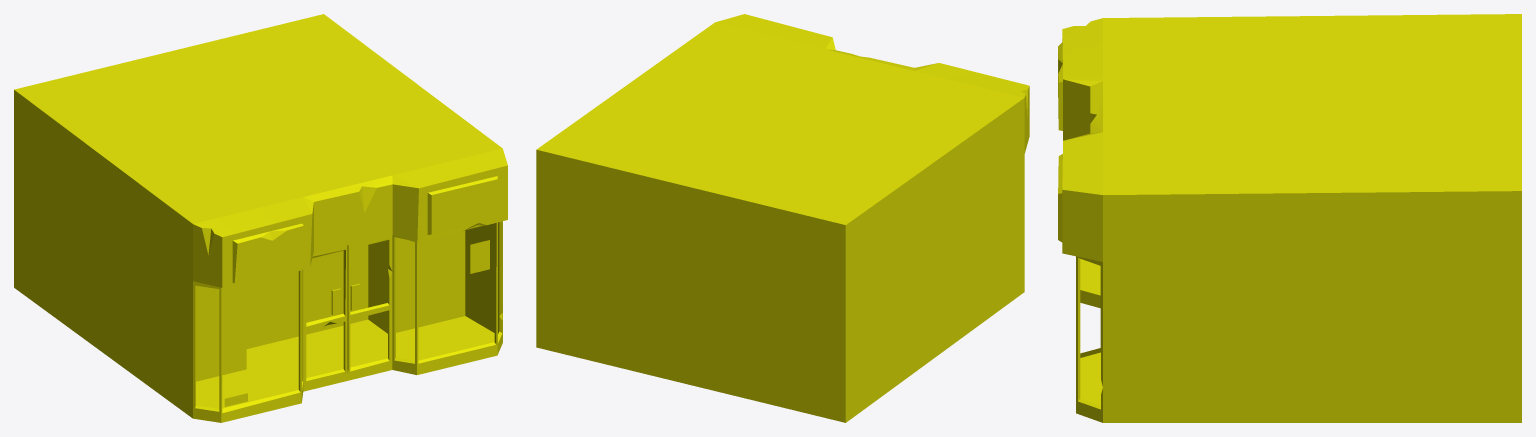
The model's file is cty_shop1.glb.
The picture shows the model from 3 angles, left to right: view 1: azimuth 30°, elevation 25°; view 2: azimuth 150°, elevation 25°; view 3: azimuth 270°, elevation 25°; orthographic projection. The views are drawn at different scales.
Visible parts, largest first — view 1: SM_Bld_Shop_01; view 2: SM_Bld_Shop_01; view 3: SM_Bld_Shop_01.
Boxes of the visible parts, x1,y1,x2,y2 form: SM_Bld_Shop_01: (14, 14, 507, 422); SM_Bld_Shop_01: (536, 14, 1029, 422); SM_Bld_Shop_01: (1058, 14, 1521, 422).
Size of the model in its own units: 0.05 by 0.0305 by 0.0554.
1 material, 1 textured.
